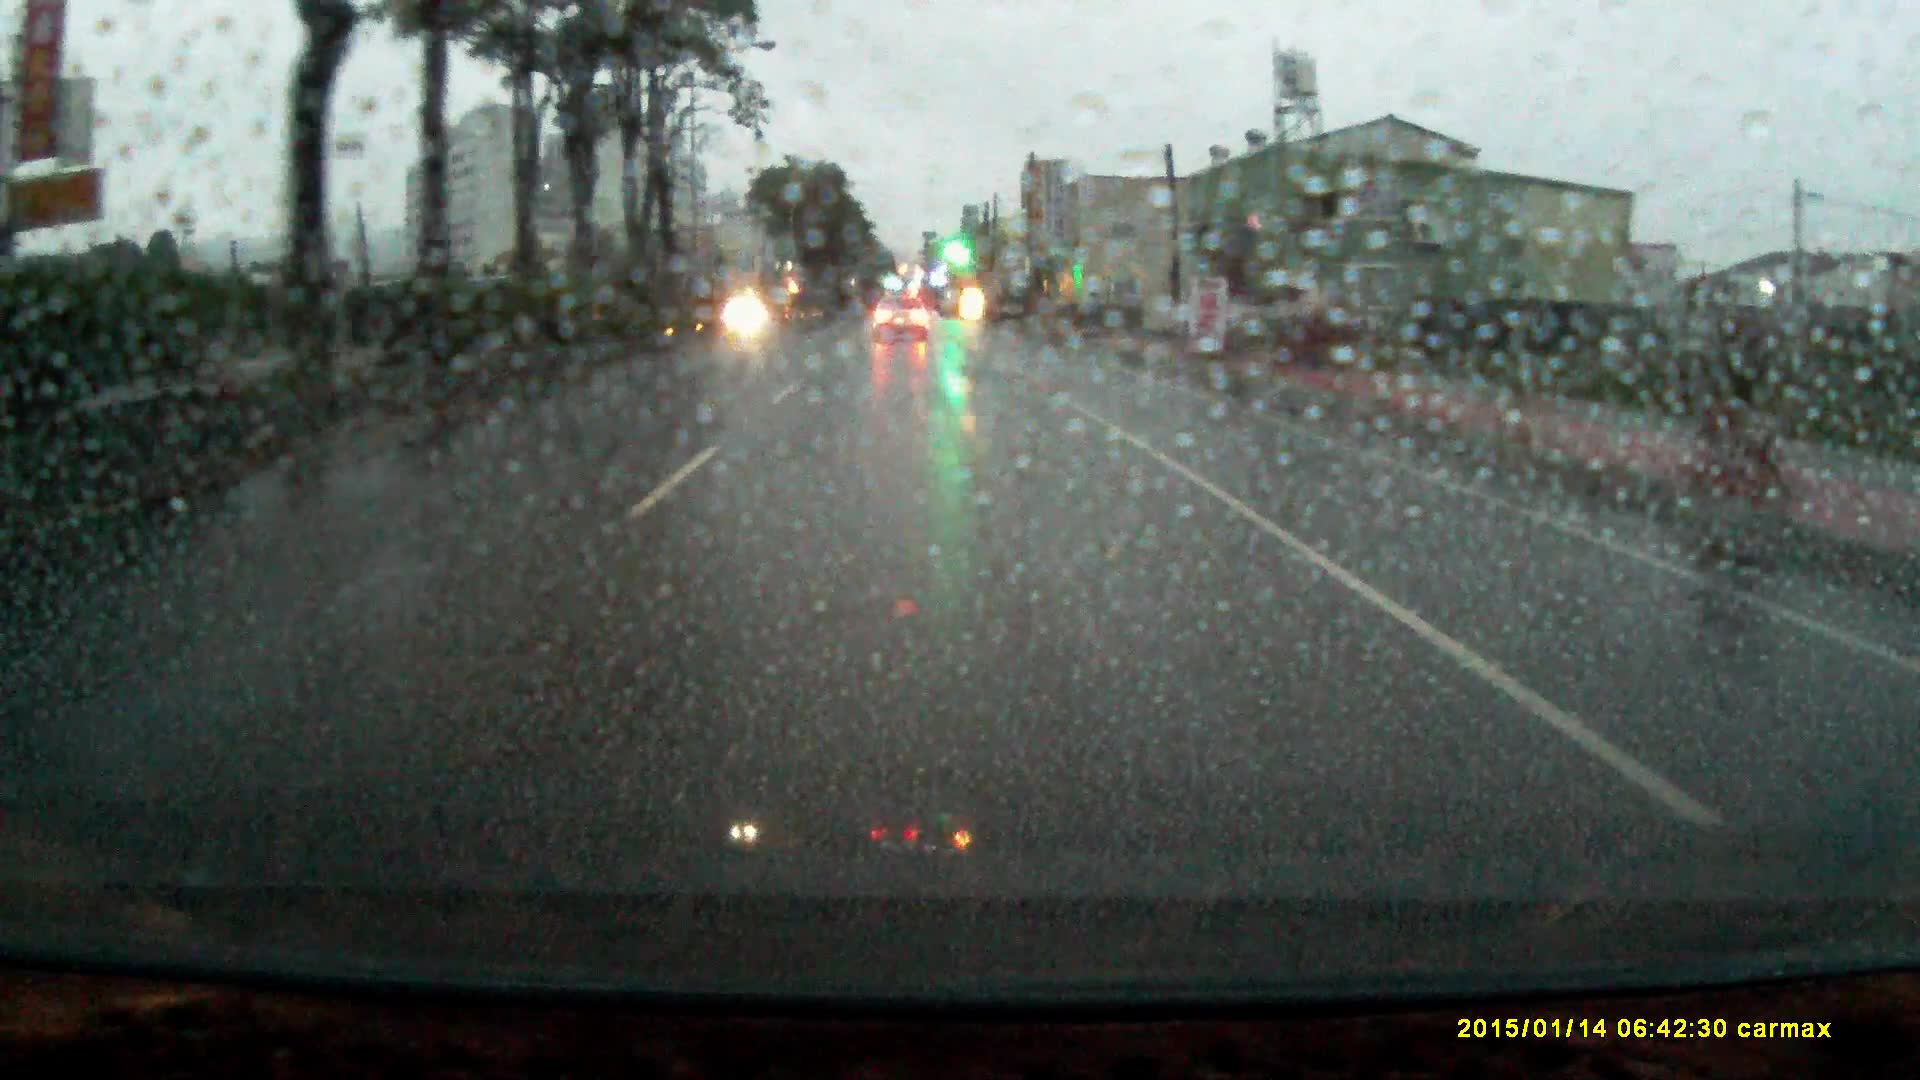vehicle: (874, 301, 932, 344)
